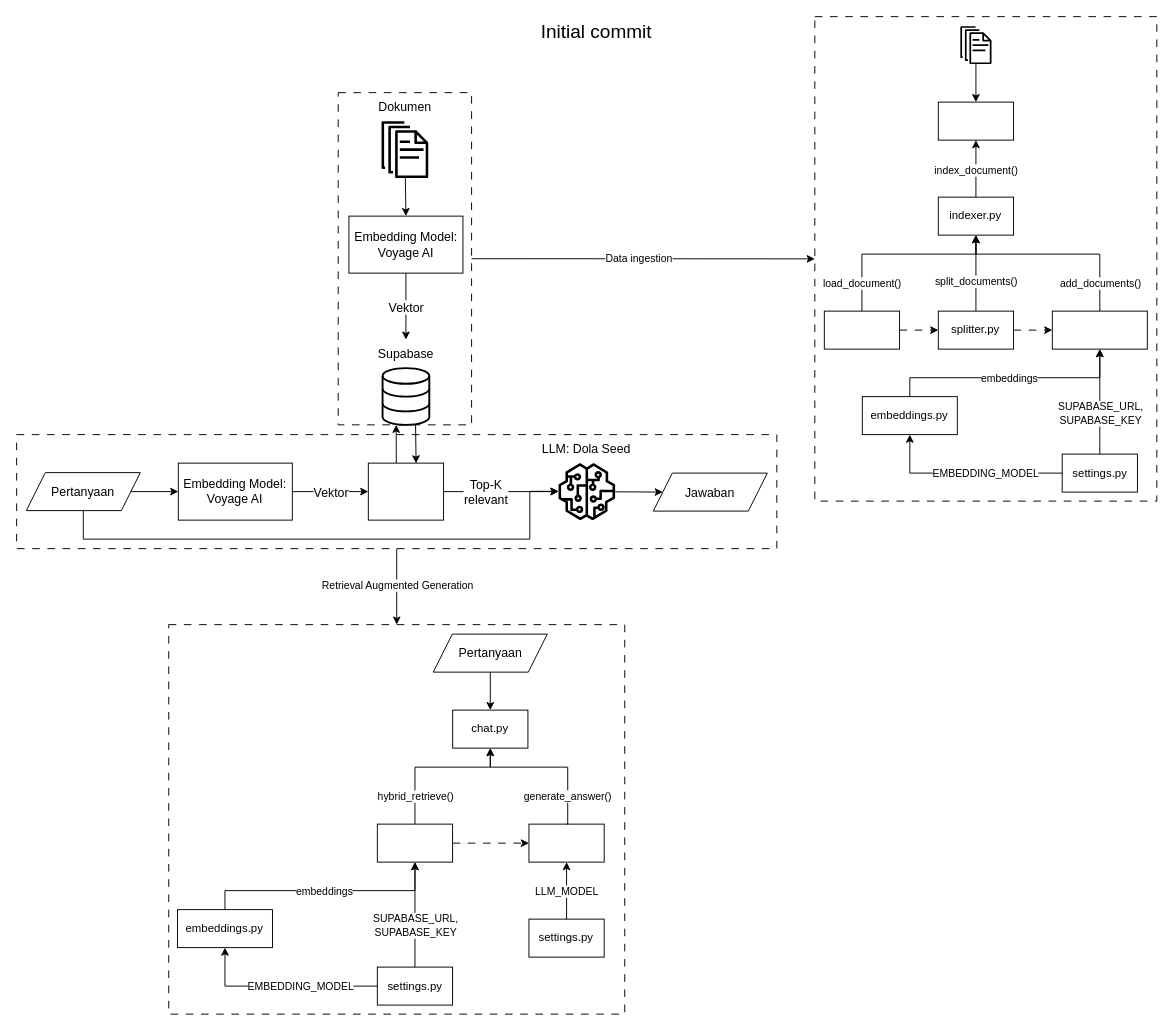
Some shapes in this 1174 by 1031 pixel diagram are drawn without their labels. Each missing label, with the centre of its shape:
chain.py: [566,842]
ingest.py: [975,120]
loader.py: [861,329]
retriever.py: [414,842]
Similarity: pgvector: [405,491]
vectorstore.py: [1099,329]
